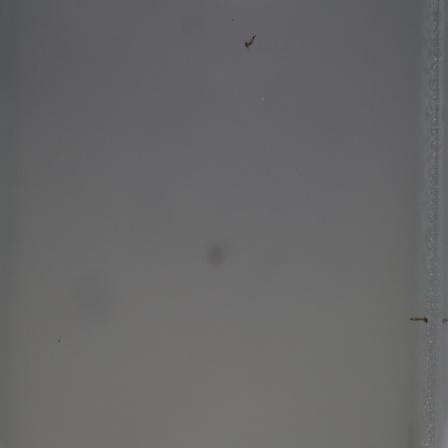Jentik-Nyamuk: (240, 30, 260, 53), (407, 311, 429, 328)
